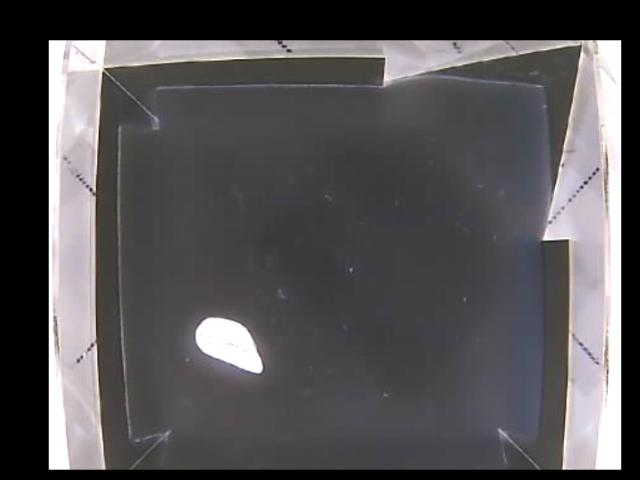Shell: (194, 317, 264, 372)
